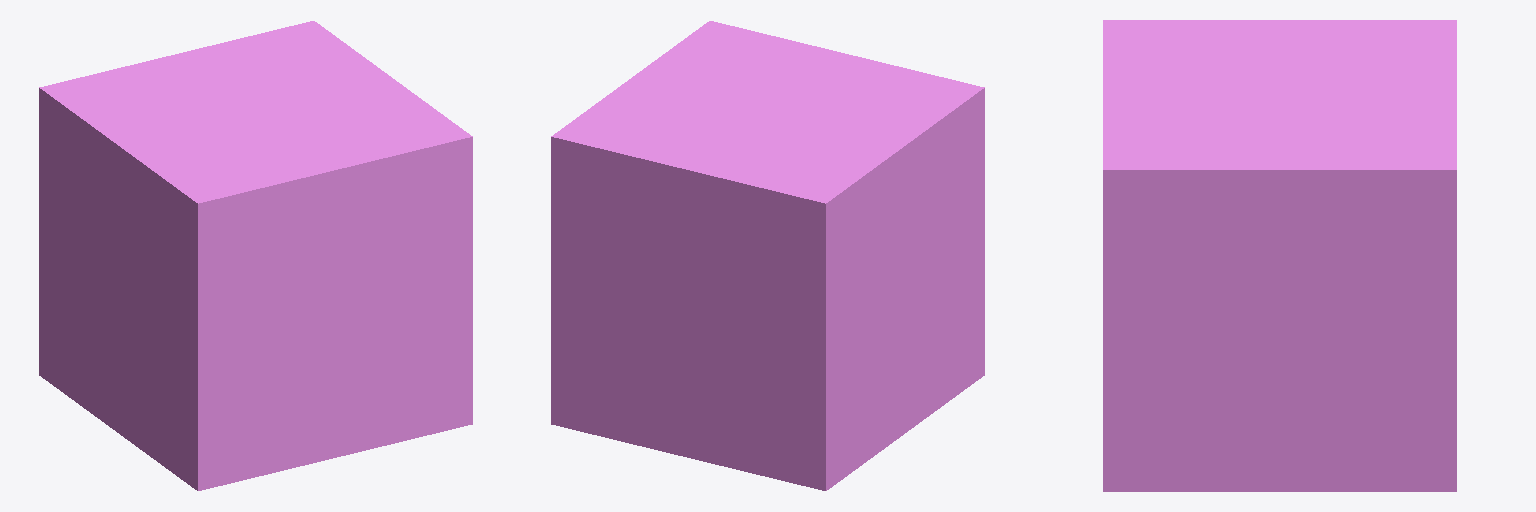
The robot description file, URDF, robot "ball":
<?xml version="0.0" ?>
<robot name="ball">
    <link name="wall">
        <contact>
            <lateral_friction value="1"/>
        </contact>

        <inertial>
            <origin xyz="0 0 0" rpy="0 0 0"/>
            <mass value="0.0"/>
            <inertia ixx="0"  ixy="0"  ixz="0" iyy="0" iyz="0" izz="0" />
        </inertial>

        <visual>
            <origin xyz="0 0 0" rpy="0 0 0" />
            <geometry>
                <box size="1.0 1.0 1.0" />
            </geometry>
            <material name="Orange">
                <color rgba="1.0 0.65 1.0 1.0"/>
            </material>
        </visual>

        <collision>
            <origin xyz="0 0 0" rpy="0 0 0"/>
            <geometry>
                <box size="1.0 1.0 1.0" />
            </geometry>
        </collision>
    </link>
</robot>

--- Facts derived from the render (not from the file) ---
The picture shows the robot from 3 angles, left to right: view 1: azimuth 30°, elevation 25°; view 2: azimuth 150°, elevation 25°; view 3: azimuth 270°, elevation 25°; orthographic projection.
Model ball with 1 links and 0 joints (none), rooted at wall, posed every joint at zero.
Visible links, largest first — view 1: wall; view 2: wall; view 3: wall.
Boxes of the visible links, bbox=[...] form: wall: bbox=[39, 21, 472, 490]; wall: bbox=[551, 21, 984, 490]; wall: bbox=[1103, 20, 1456, 491].
Size in the robot's own frame: 1 by 1 by 1 metres.
Geometry: primitives only (box / cylinder / sphere), no mesh files.